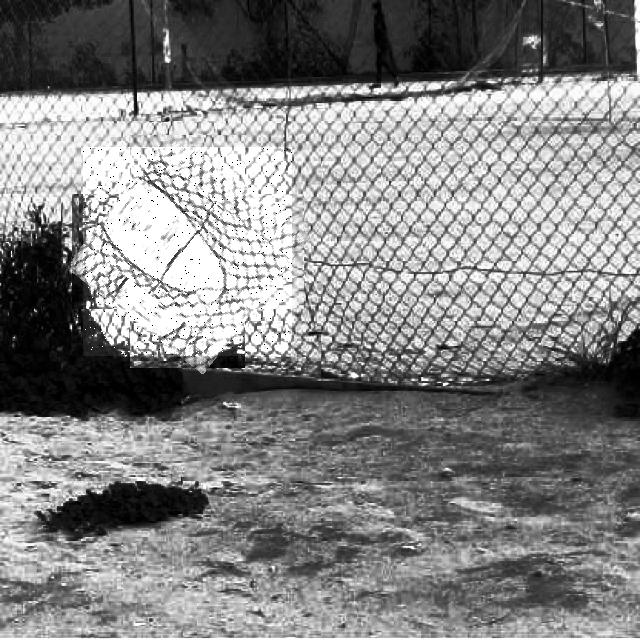anomaly-fence: (83, 147, 292, 356)
